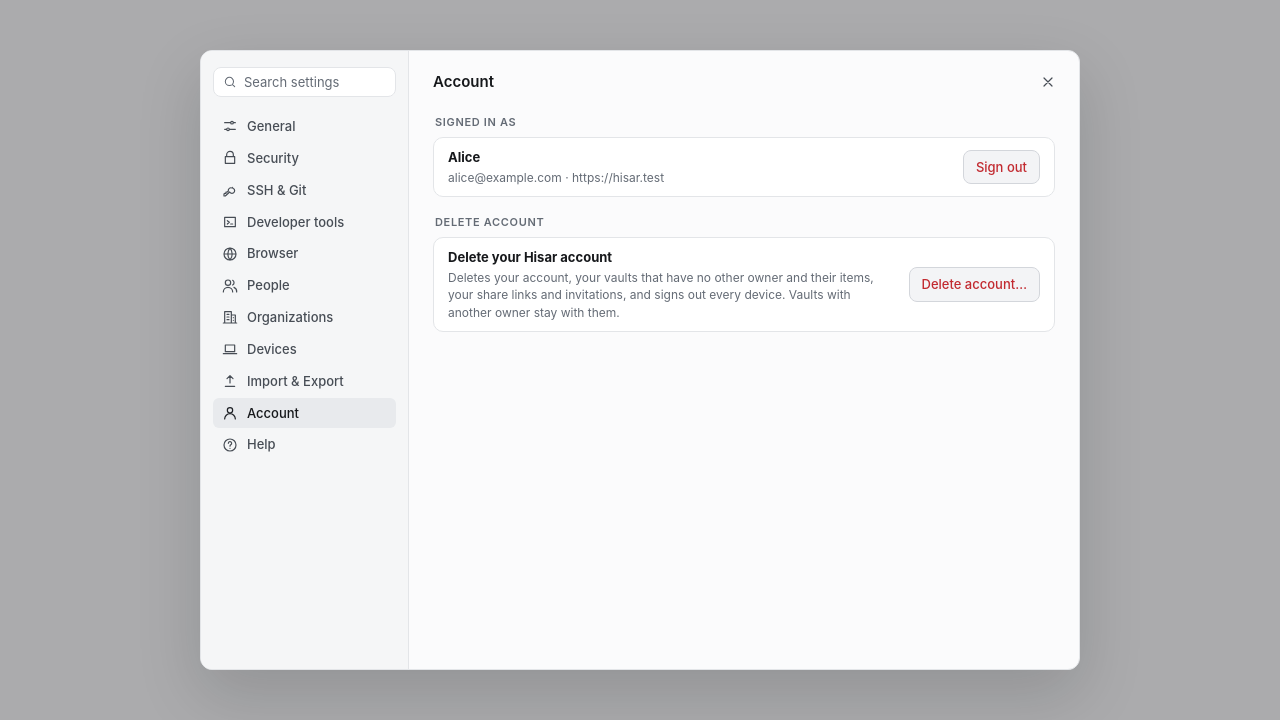
Scenario: Settings rows › offers deleting the account under Account
Click the button with test id "delete-account": (974, 285) [908,267,1040,302]
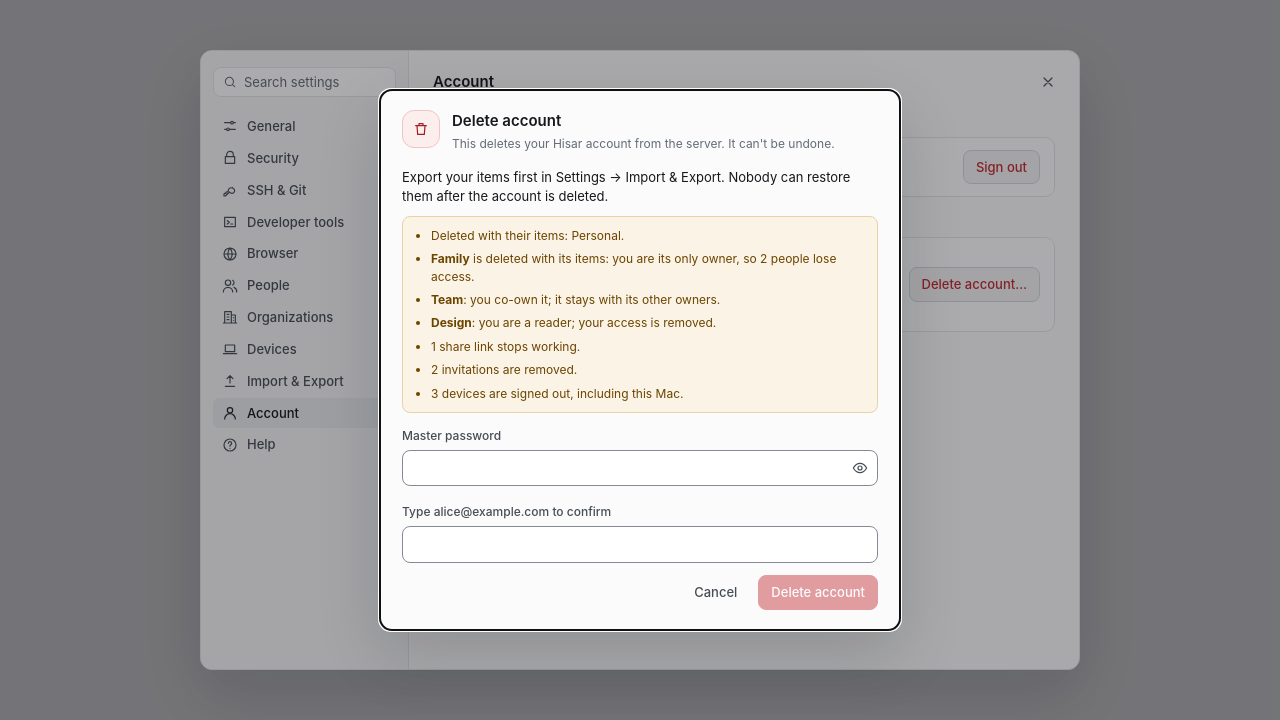
Expected: the list with test id "delete-account-consequences" is shown, [402,216,878,413]
